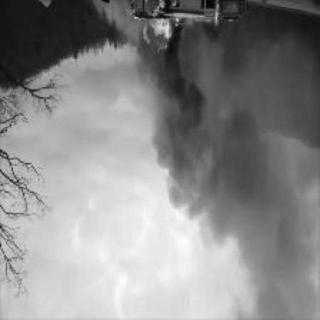Fire: (139, 16, 189, 59), (210, 4, 226, 30), (152, 3, 178, 13)
Smoke: (144, 62, 320, 315)
